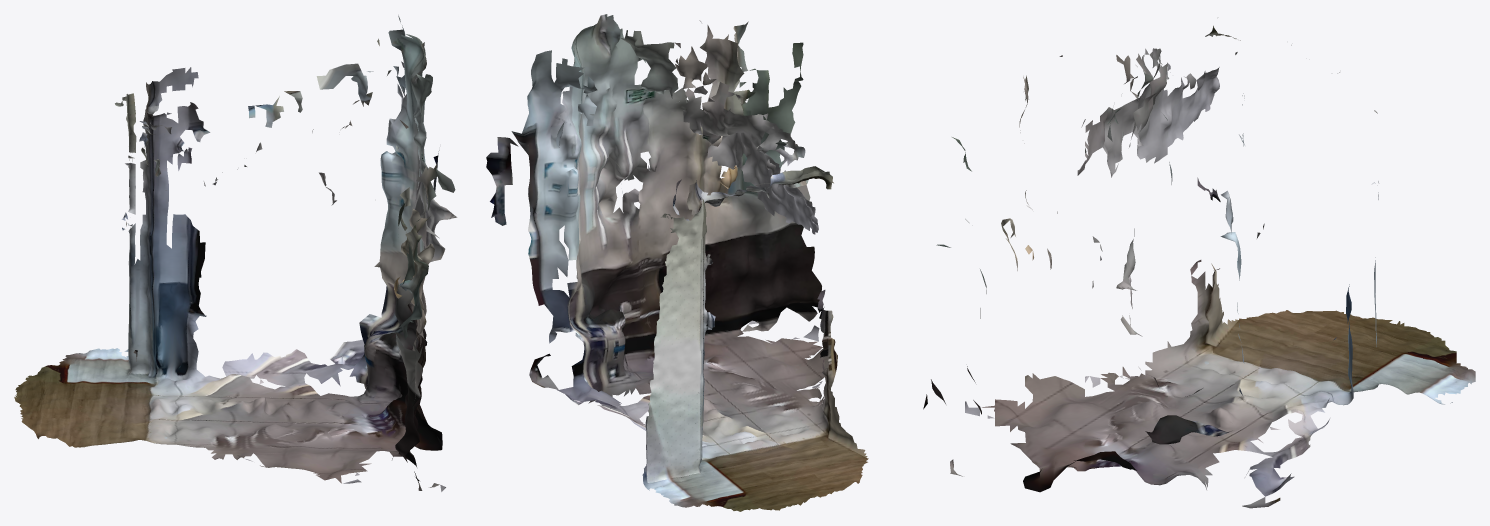
The model's file is 121488-Pintu302-tex.glb.
3 views of the same model, side by side, from view 1: azimuth 30°, elevation 25°; view 2: azimuth 150°, elevation 25°; view 3: azimuth 270°, elevation 25° (orthographic). The views are drawn at different scales.
Parts seen in each view (by area): view 1: Node; view 2: Node; view 3: Node.
Boxes of the visible parts, x1,y1,x2,y2 form: Node: (14,15,457,491); Node: (486,14,868,511); Node: (923,25,1475,508).
Size of the model in its own units: 3.39 by 3.03 by 3.53.
Materials: 1 (1 with a texture image).
